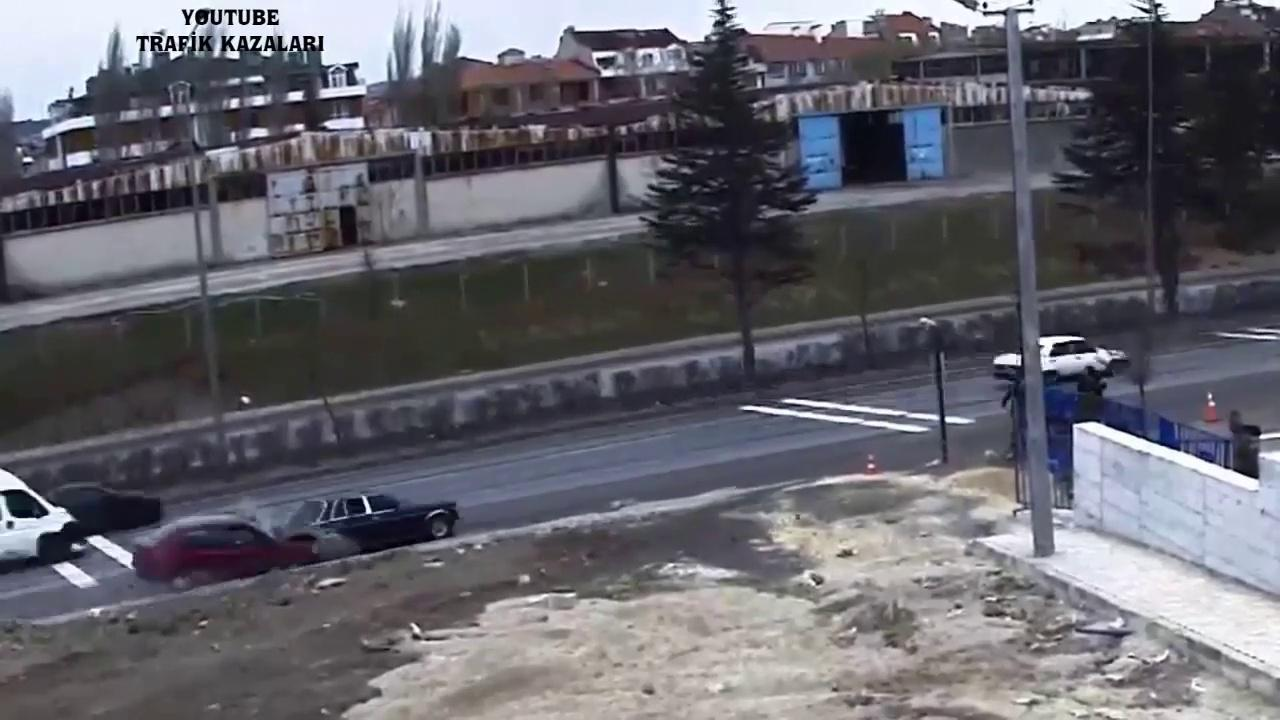car-accident: (131, 485, 462, 598)
